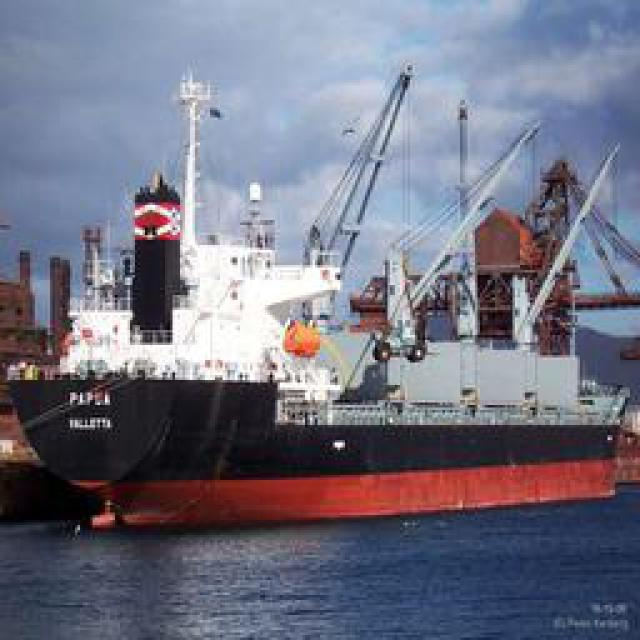Ship: (11, 57, 624, 525)
